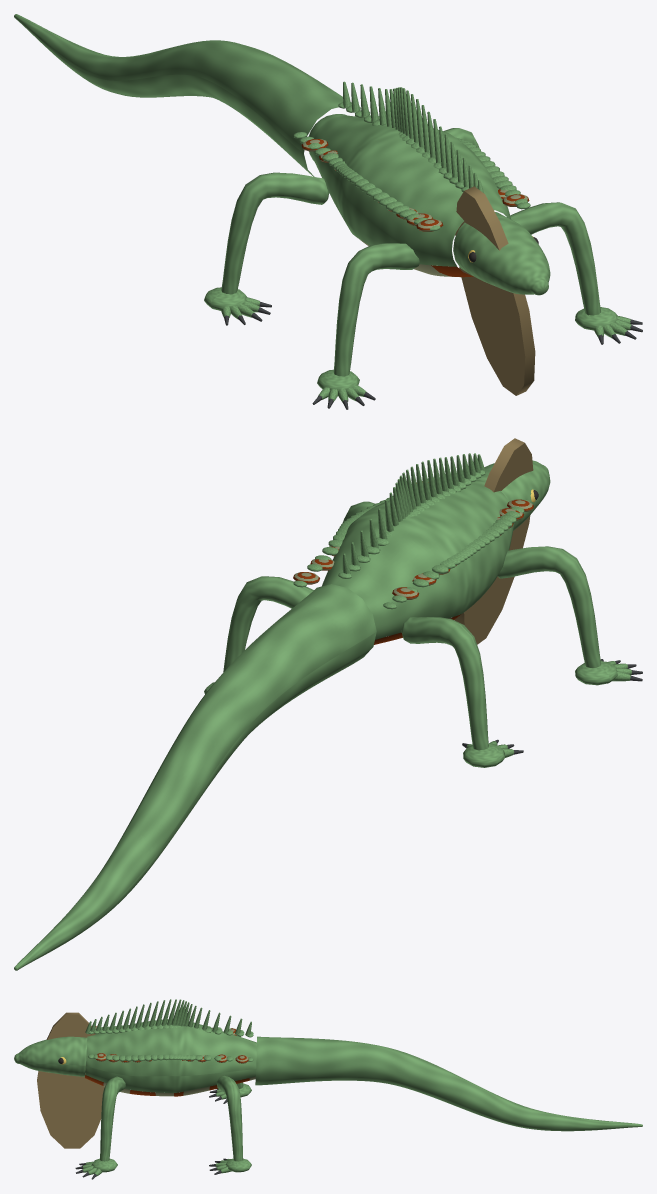
The model's file is real-iguana.glb.
3 renders of one model, top to bottom at view 1: azimuth 30°, elevation 25°; view 2: azimuth 150°, elevation 25°; view 3: azimuth 270°, elevation 25°, orthographic. The views are drawn at different scales.
Visible parts, largest first — view 1: green-iguana; view 2: green-iguana; view 3: green-iguana.
Part boxes in pixels (<box>): green-iguana: <box>14,14,642,409</box>; green-iguana: <box>14,438,642,970</box>; green-iguana: <box>14,999,642,1179</box>.
Bounding box in the file's own units: 0.5758 × 0.4016 × 1.6.
Materials: 5 (3 with a texture image).
